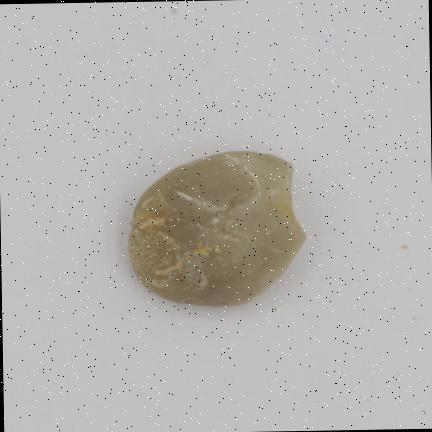shell: (128, 151, 305, 304)
